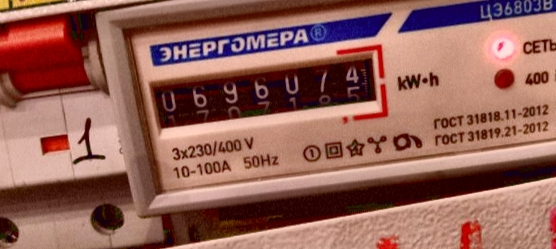0: (156, 87, 178, 114), (282, 68, 301, 96)
4: (342, 60, 361, 86)
5: (345, 84, 362, 103)
6: (188, 80, 211, 110), (250, 74, 270, 100)
7: (311, 65, 332, 94)
9: (218, 78, 240, 105)
screen: (135, 38, 395, 150)
